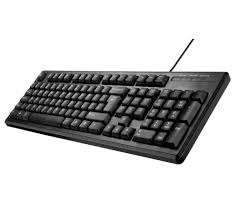keyboard: (3, 69, 234, 166)
